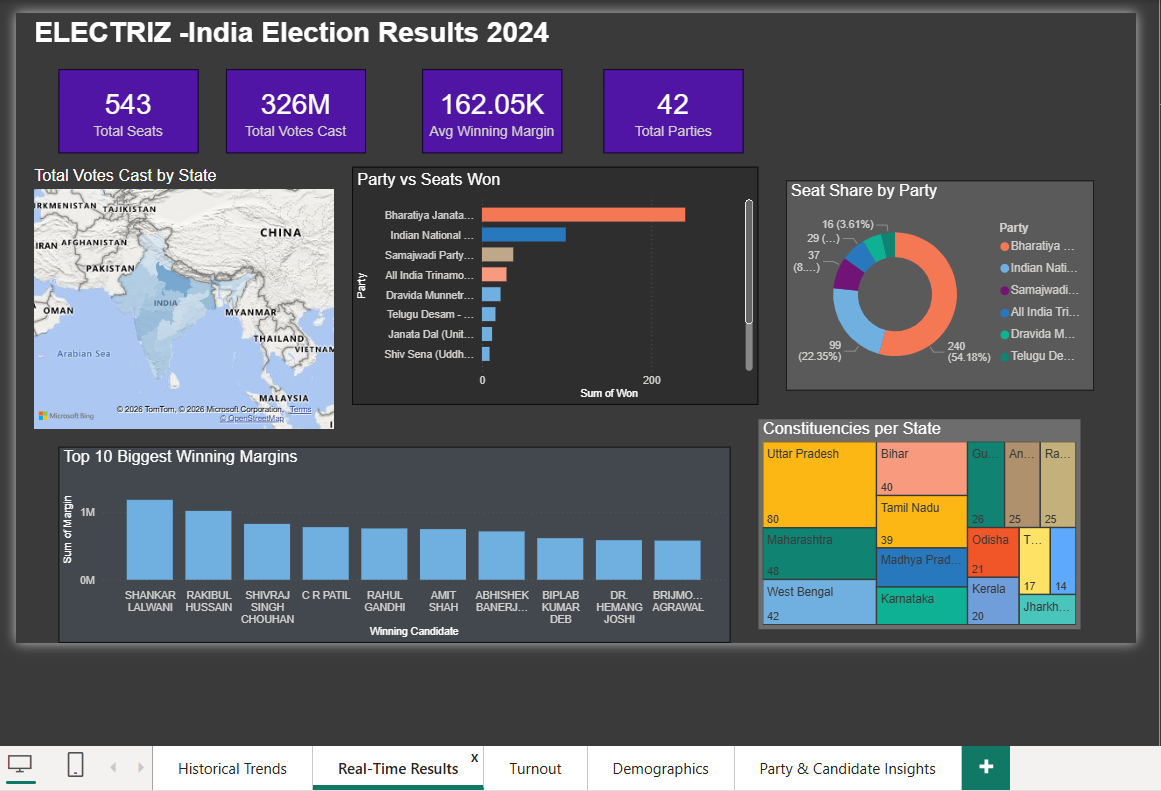

The dashboard page shown, as its layout file describes it:
{"tool":"powerbi","page":{"name":"Real-Time Results","canvas":[1280,720],"ordinal":1},"visuals":[{"type":"textbox","box":[16,0,896,64],"z":0},{"type":"card","fields":{"Values":["ConstituencyWiseResults.Total Votes Cast"]},"box":[240,64,160,96],"z":1000},{"type":"card","fields":{"Values":["ConstituencyWiseResults.Total Seats"]},"box":[48,64,160,96],"z":2000},{"type":"card","fields":{"Values":["ConstituencyWiseResults.Avg Winning Margin"]},"box":[464,64,160,96],"z":3000},{"type":"card","fields":{"Values":["ConstituencyWiseResults.Total Parties"]},"box":[672,64,160,96],"z":4000},{"type":"clusteredBarChart","title":" Party vs Seats Won","fields":{"Category":["PartyWiseResults.Party"],"Y":["Sum(PartyWiseResults.Won)"]},"box":[384,176,464,272],"z":5000},{"type":"donutChart","title":"Seat Share by Party","fields":{"Category":["PartyWiseResults.Party"],"Y":["Sum(PartyWiseResults.Won)"]},"box":[880,192,352,240],"z":6000},{"type":"clusteredColumnChart","title":"Top 10 Biggest Winning Margins","fields":{"Category":["ConstituencyWiseResults.Winning Candidate"],"Y":["Sum(ConstituencyWiseResults.Margin)"]},"box":[48,496,768,224],"z":7000},{"type":"treemap","title":"Constituencies per State","fields":{"Group":["States.State"],"Values":["ConstituencyWiseResults.Total Seats"]},"box":[848,464,368,240],"z":8000},{"type":"filledMap","fields":{"Category":["States.State"]},"box":[16,176,352,304],"z":9000}]}

Visuals, with their boxes on the page's 1280x720 design canvas (x1, y1, x2, y2). These are canvas units, not pixel positions in the 1161x791 screenshot, which may show the page scaled, cropped or inside an application window:
textbox: (16,0,912,64)
card - ConstituencyWiseResults.Total Votes Cast: (240,64,400,160)
card - ConstituencyWiseResults.Total Seats: (48,64,208,160)
card - ConstituencyWiseResults.Avg Winning Margin: (464,64,624,160)
card - ConstituencyWiseResults.Total Parties: (672,64,832,160)
" Party vs Seats Won" clusteredBarChart: (384,176,848,448)
"Seat Share by Party" donutChart: (880,192,1232,432)
"Top 10 Biggest Winning Margins" clusteredColumnChart: (48,496,816,720)
"Constituencies per State" treemap: (848,464,1216,704)
filledMap - States.State: (16,176,368,480)
